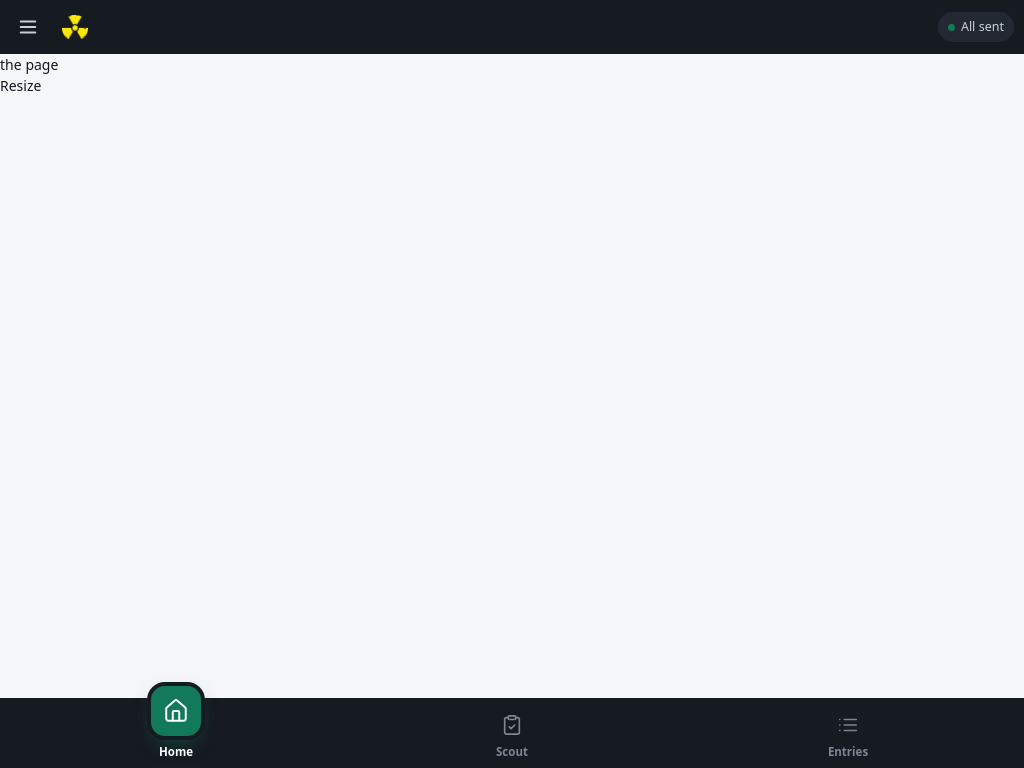
it: the phone shell (redesign R.7) › closes the drawer on Escape and returns focus to the menu button
Click the button named "Open the menu": x=28, y=27 [4, 3, 52, 51]
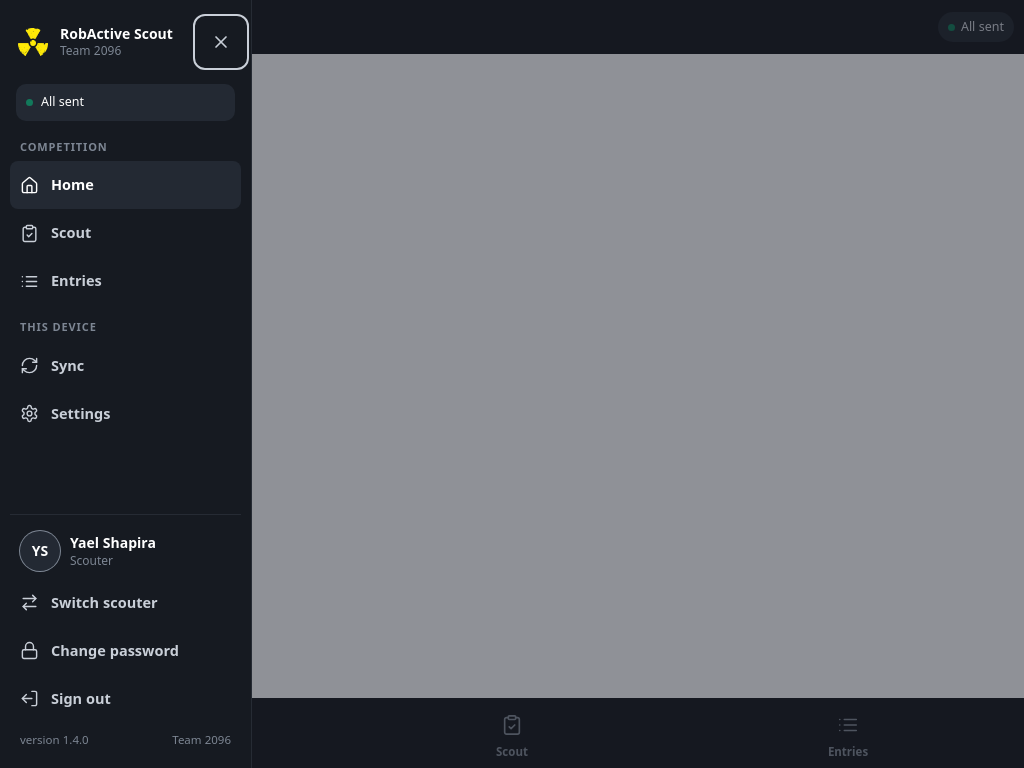
Press Escape
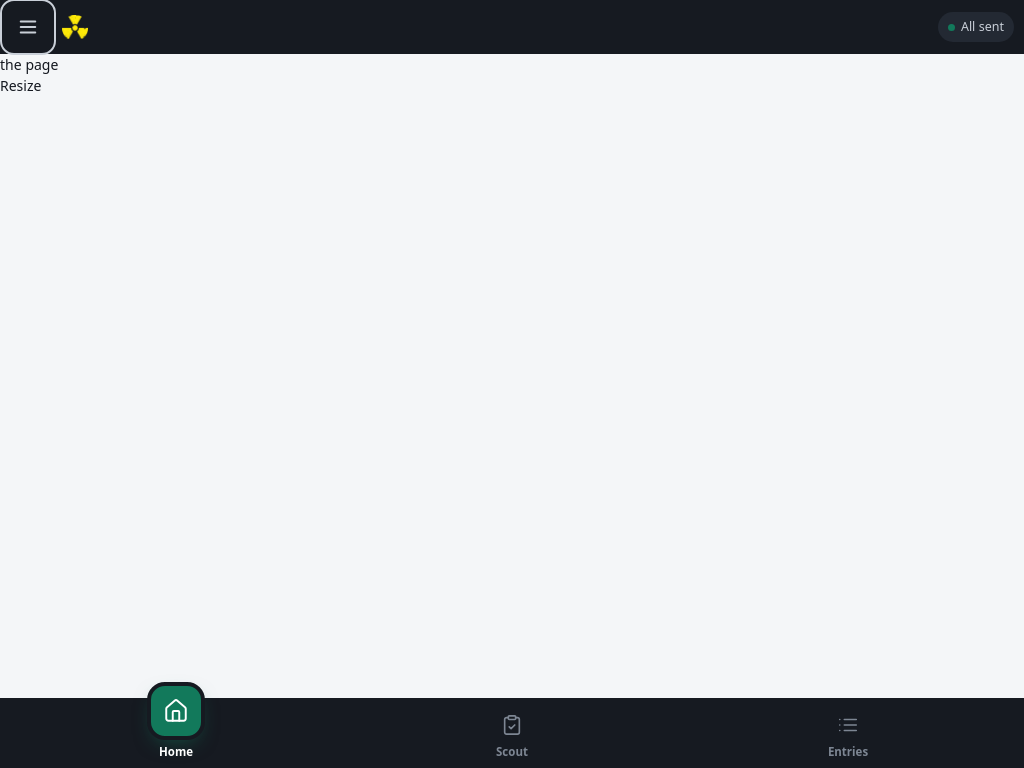
Now the dialog is gone
